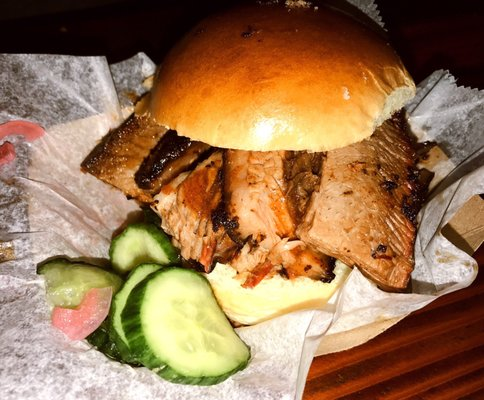soup: (76, 1, 449, 316)
